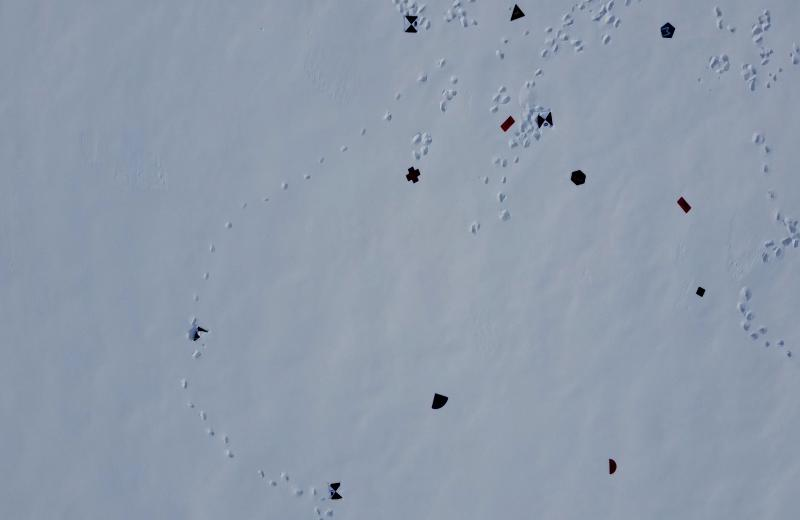Cross: (405, 165, 421, 185)
Hexagon: (570, 169, 587, 187)
Pentagon: (658, 22, 676, 40)
Quarter Circle: (430, 391, 451, 412)
Rectangle: (499, 114, 518, 133), (676, 194, 691, 215)
Semi Circle: (606, 458, 617, 476)
Square: (694, 284, 706, 298)
Triangle: (507, 3, 526, 22)
